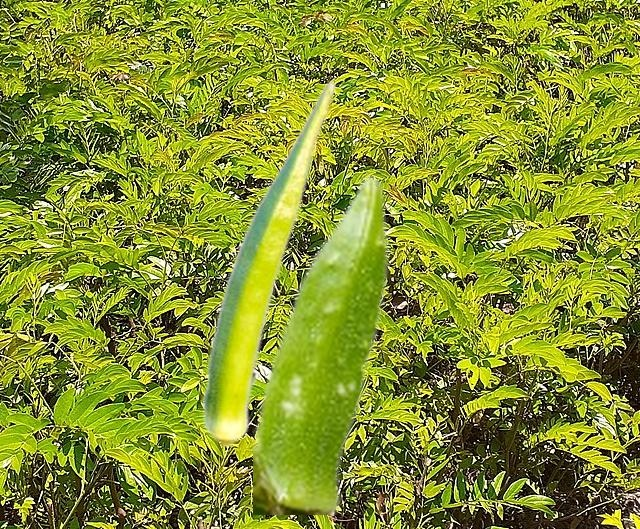okra: (202, 79, 336, 447), (253, 172, 389, 513)
